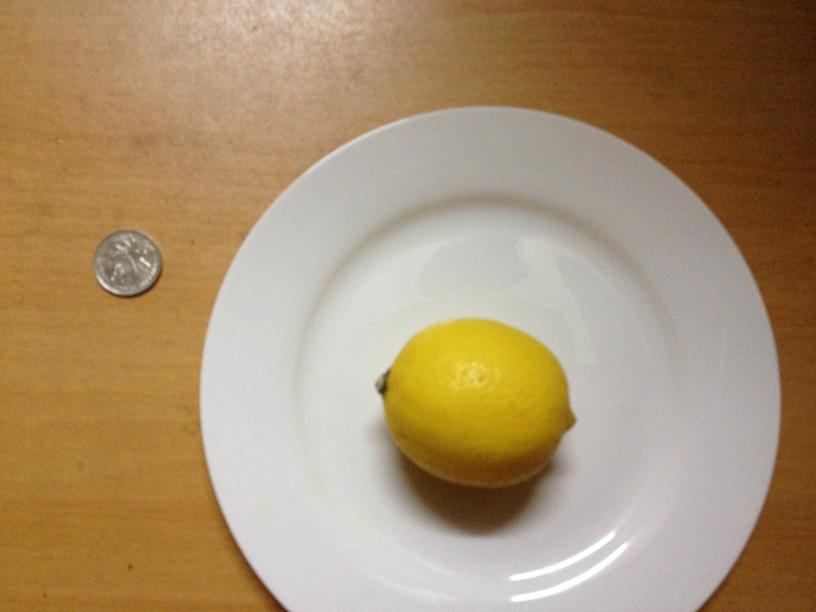coin: (93, 225, 160, 296)
lemon: (381, 322, 570, 487)
